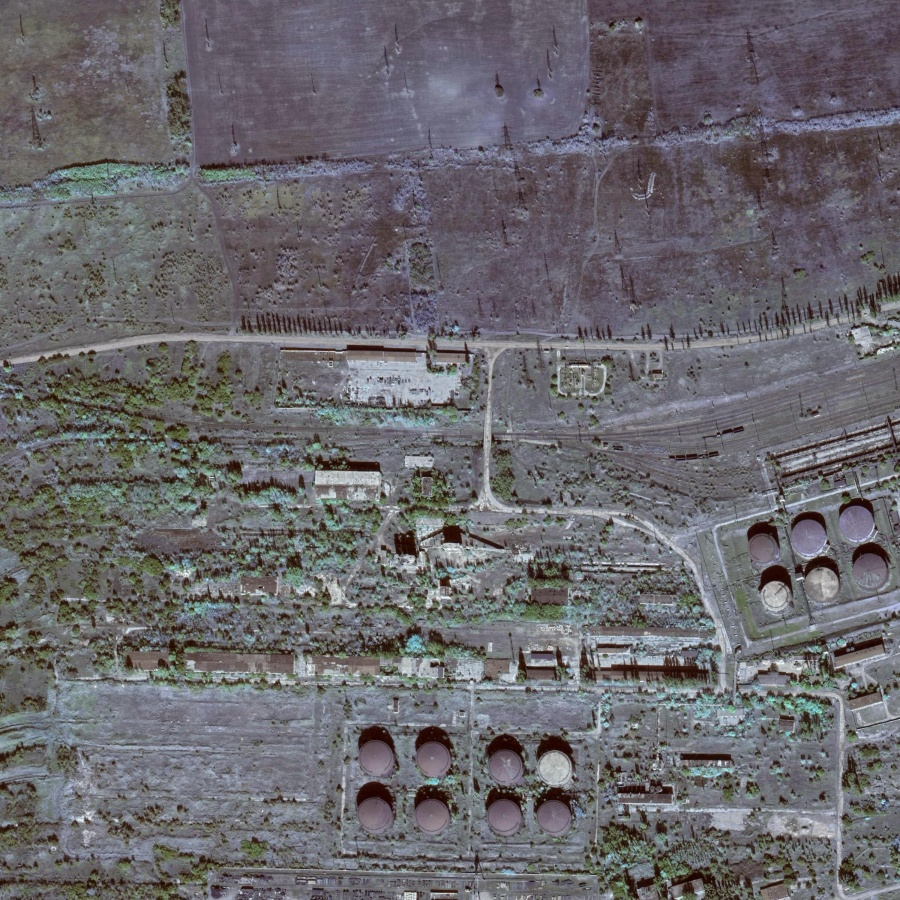PowerPlant: (323, 686, 593, 864)
